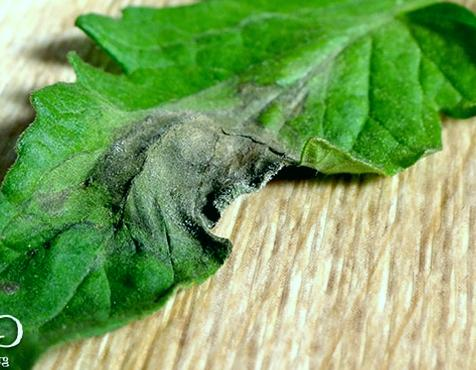Tomato leaf late blight: (0, 0, 476, 368)
